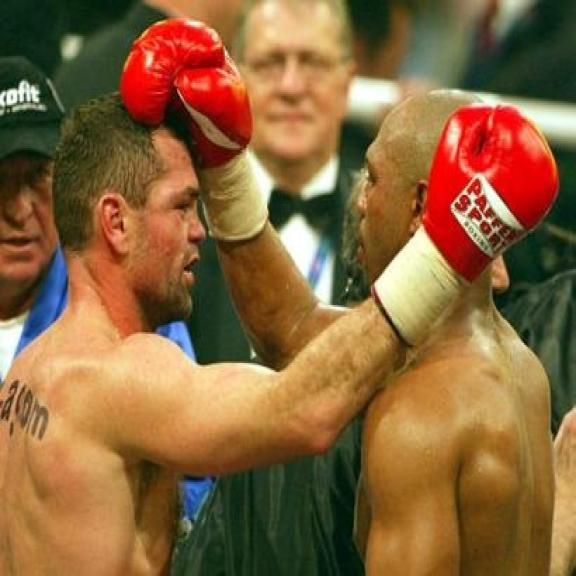face: (100, 106, 204, 326), (241, 8, 358, 173), (346, 111, 433, 300), (0, 153, 60, 287)
